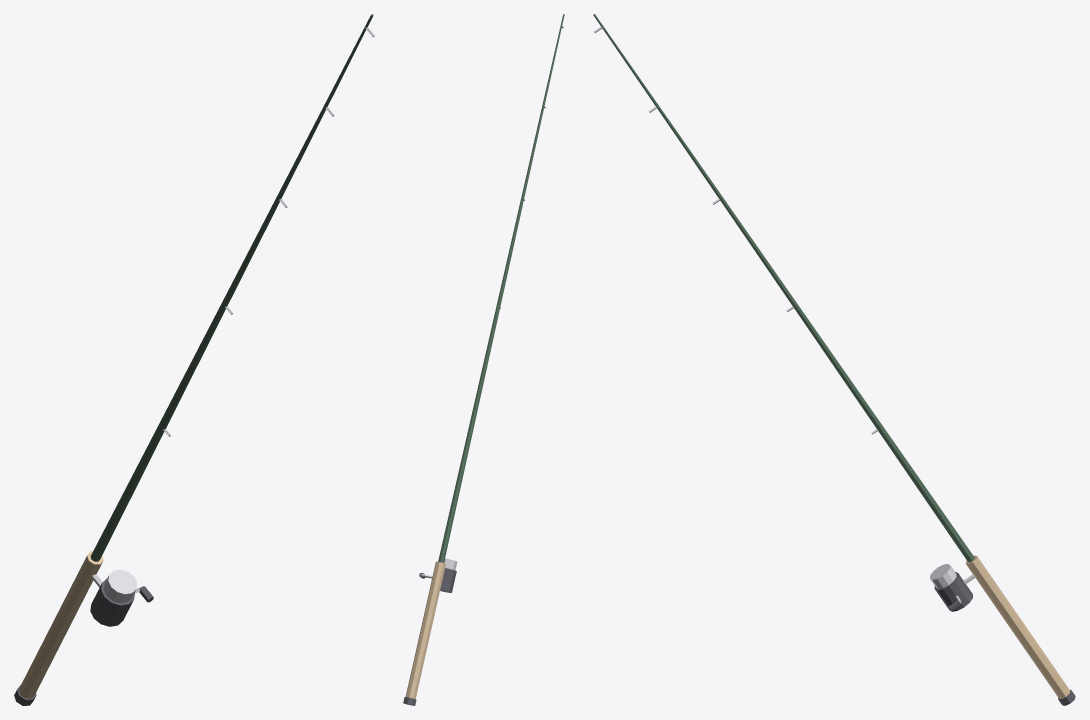
The model's file is Rod.glb.
3 renders of one model, left to right at view 1: azimuth 30°, elevation 25°; view 2: azimuth 150°, elevation 25°; view 3: azimuth 270°, elevation 25°, orthographic. The views are drawn at different scales.
Parts seen in each view (by area): view 1: Rod_Blank, Rod_Grip, Reel_Body, Reel_Spool; view 2: Rod_Blank, Rod_Grip, Reel_Body; view 3: Rod_Blank, Rod_Grip.
Boxes of the visible parts, x1=… form: Rod_Blank: x1=90, y1=14, x2=373, y2=561; Rod_Grip: x1=18, y1=551, x2=103, y2=698; Reel_Body: x1=90, y1=578, x2=134, y2=626; Reel_Spool: x1=103, y1=569, x2=137, y2=603; Rod_Blank: x1=438, y1=14, x2=564, y2=562; Rod_Grip: x1=405, y1=561, x2=445, y2=699; Reel_Body: x1=440, y1=568, x2=456, y2=592; Rod_Blank: x1=593, y1=14, x2=974, y2=562; Rod_Grip: x1=965, y1=555, x2=1070, y2=698.
Size of the model in its own units: 0.1423 by 1.92 by 1.18.
